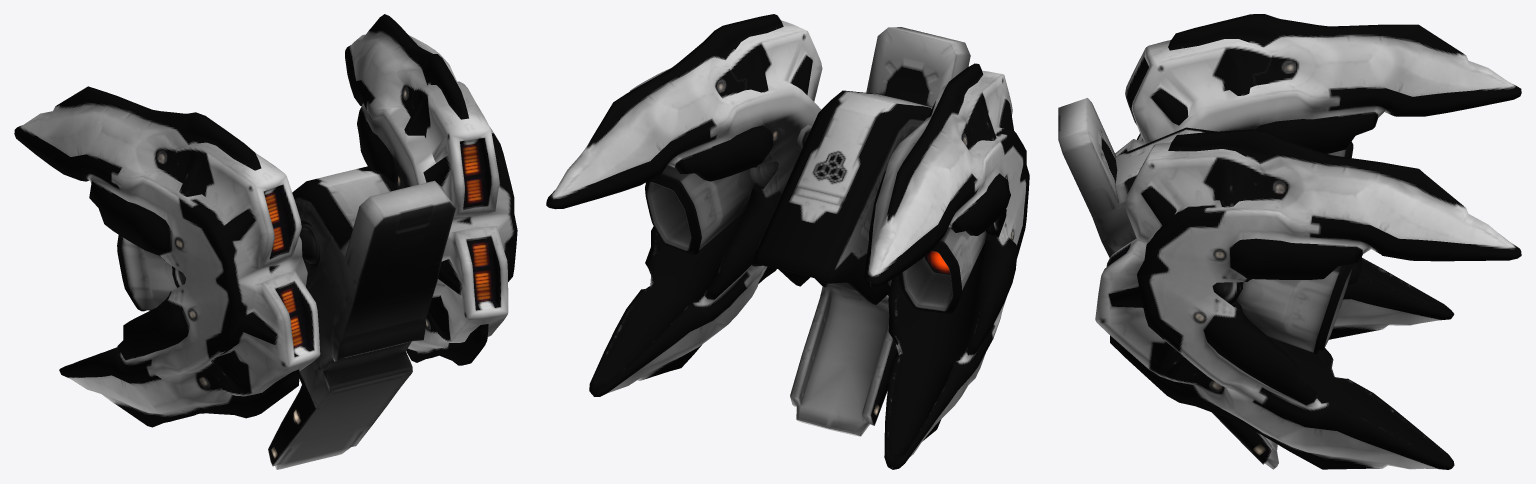
File: backpackDEF.gltf
The picture shows the model from 3 angles, left to right: view 1: azimuth 30°, elevation 25°; view 2: azimuth 150°, elevation 25°; view 3: azimuth 270°, elevation 25°; orthographic projection. The views are drawn at different scales.
Parts seen in each view (by area): view 1: MP_DEF_Backpack; view 2: MP_DEF_Backpack; view 3: MP_DEF_Backpack.
Boxes of the visible parts, x1,y1,x2,y2 form: MP_DEF_Backpack: (14,14,517,469); MP_DEF_Backpack: (546,14,1029,469); MP_DEF_Backpack: (1058,14,1521,469).
Size of the model in its own units: 0.5998 by 0.6075 by 0.6697.
